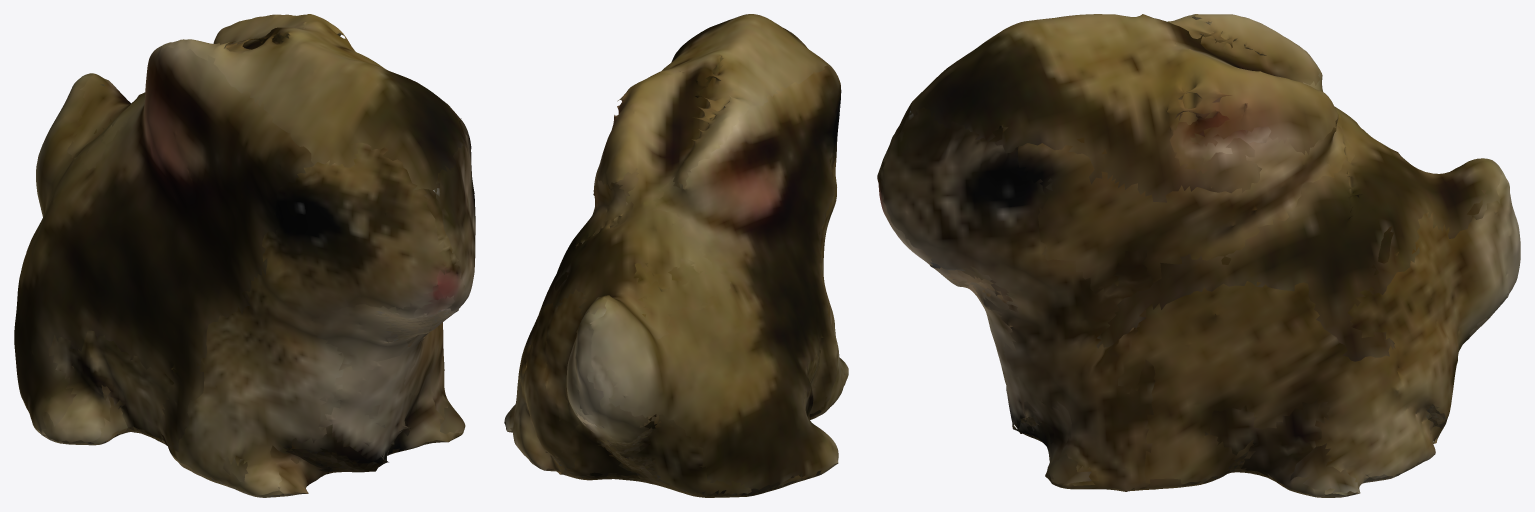
File: jump.FBX
3 views of the same model, side by side, from view 1: azimuth 30°, elevation 25°; view 2: azimuth 150°, elevation 25°; view 3: azimuth 270°, elevation 25° (orthographic). The views are drawn at different scales.
Visible parts, largest first — view 1: model_New Qlone; view 2: model_New Qlone; view 3: model_New Qlone.
Part boxes in pixels (x1=…): model_New Qlone: x1=14, y1=14, x2=475, y2=497; model_New Qlone: x1=504, y1=14, x2=848, y2=497; model_New Qlone: x1=877, y1=14, x2=1520, y2=497.
Size of the model in its own units: 38.38 by 42.16 by 59.67.
1 material, 1 textured.
